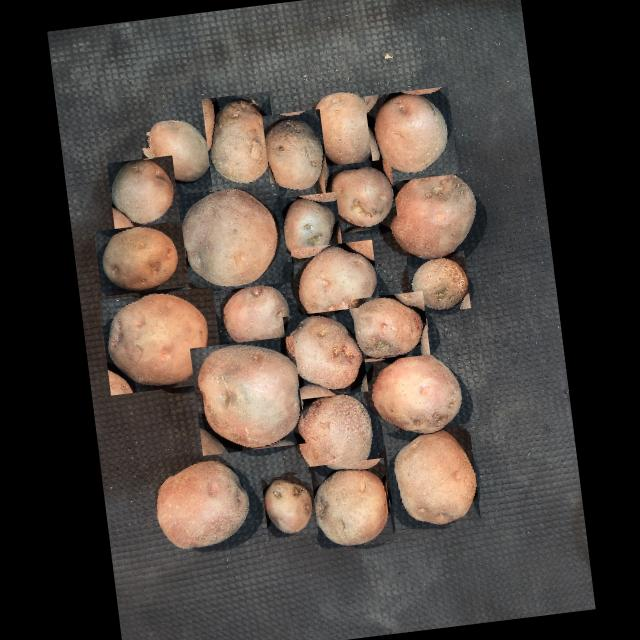Defected potato: (140, 109, 210, 188)
Diseased-fungal potato: (188, 336, 304, 456), (98, 286, 223, 395), (142, 451, 255, 564), (176, 182, 289, 294), (382, 422, 480, 532), (382, 165, 483, 266), (362, 348, 468, 442), (363, 85, 457, 184), (289, 388, 377, 481), (290, 240, 380, 330), (200, 90, 279, 192), (281, 307, 367, 400), (306, 458, 392, 550), (92, 220, 188, 296), (304, 79, 381, 171), (260, 109, 330, 205), (214, 273, 296, 351), (346, 291, 429, 364), (321, 158, 397, 234), (105, 154, 179, 230), (273, 192, 342, 262), (405, 250, 470, 315), (260, 472, 317, 540)
